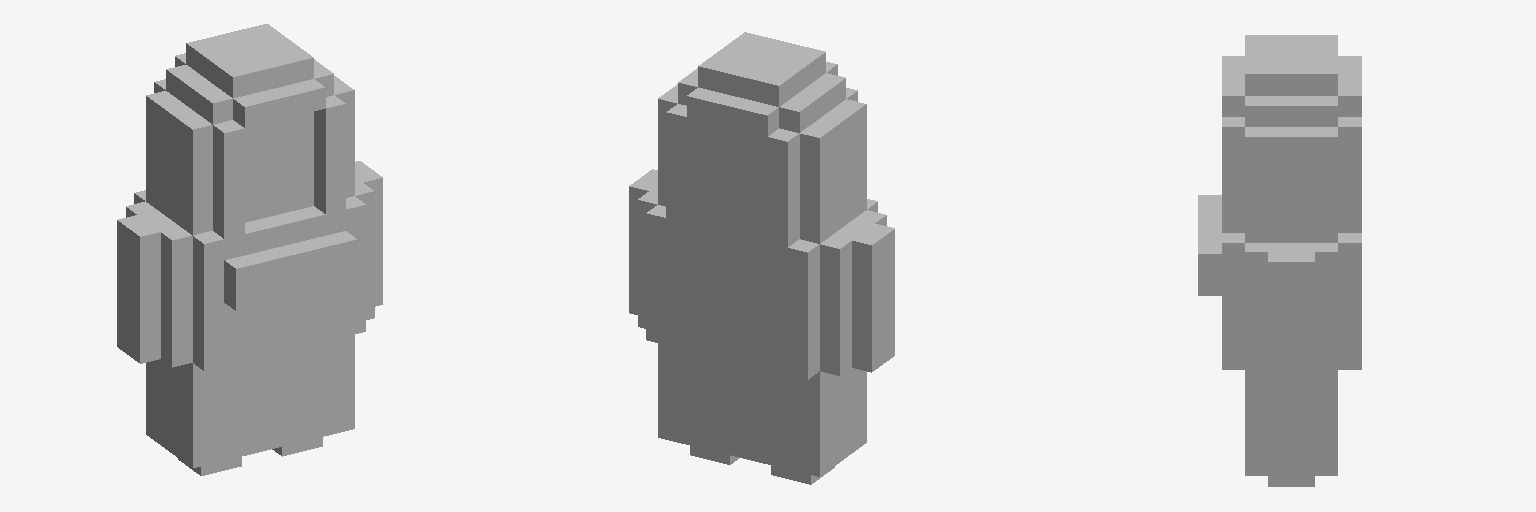
The model's file is chr_mom.obj.
3 views of the same model, side by side, from view 1: azimuth 30°, elevation 25°; view 2: azimuth 150°, elevation 25°; view 3: azimuth 270°, elevation 25° (orthographic).
Parts seen in each view (by area): view 1: chr_mom; view 2: chr_mom; view 3: chr_mom.
Part boxes in pixels (x1,y1,x2,y2): chr_mom: (117, 24, 382, 475); chr_mom: (629, 32, 894, 484); chr_mom: (1198, 35, 1361, 486).
Bounding box in the file's own units: 12 × 19 × 7.